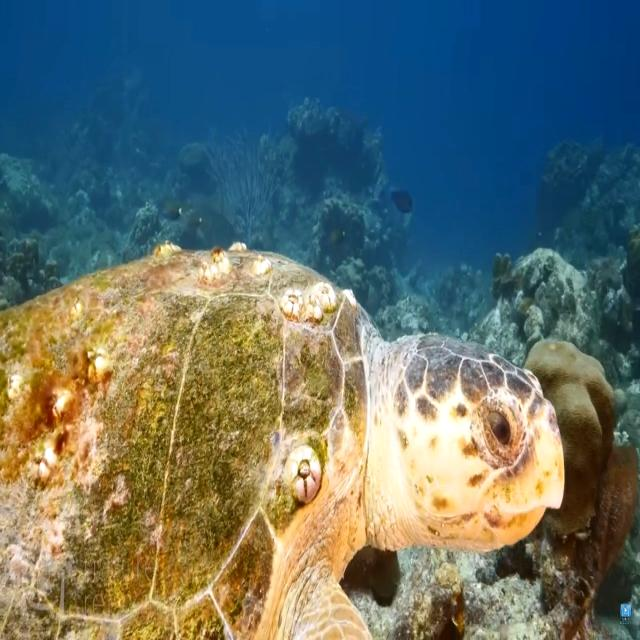Sea turtle: (0, 234, 566, 640)
